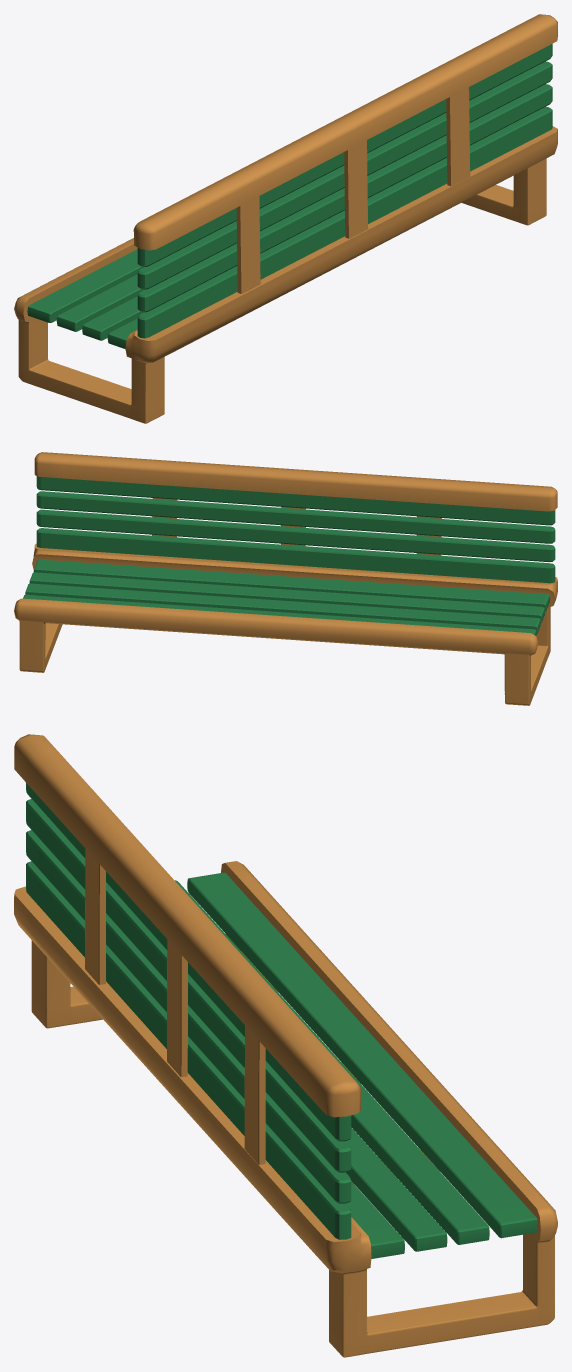
The model's file is Enviro_Bench_Creole_Untextured.fbx.
3 views of the same model, one above another, from view 1: azimuth 30°, elevation 25°; view 2: azimuth 150°, elevation 25°; view 3: azimuth 270°, elevation 25° (orthographic). The views are drawn at different scales.
Parts seen in each view (by area): view 1: Bench_Fancy; view 2: Bench_Fancy; view 3: Bench_Fancy.
Boxes of the visible parts, x1=… form: Bench_Fancy: x1=14, y1=14, x2=557, y2=423; Bench_Fancy: x1=14, y1=452, x2=557, y2=705; Bench_Fancy: x1=14, y1=734, x2=557, y2=1357.
Size of the model in its own units: 2.87 by 0.9535 by 1.7.
